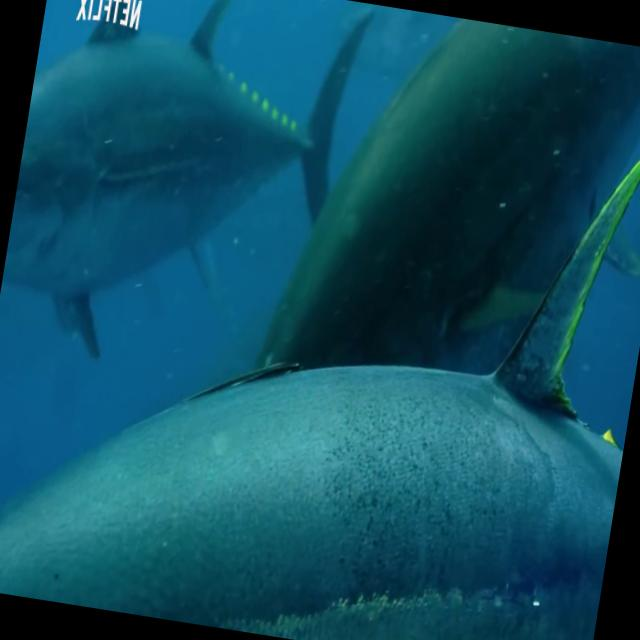fish: (0, 18, 640, 640), (245, 0, 640, 429), (0, 0, 374, 397)
